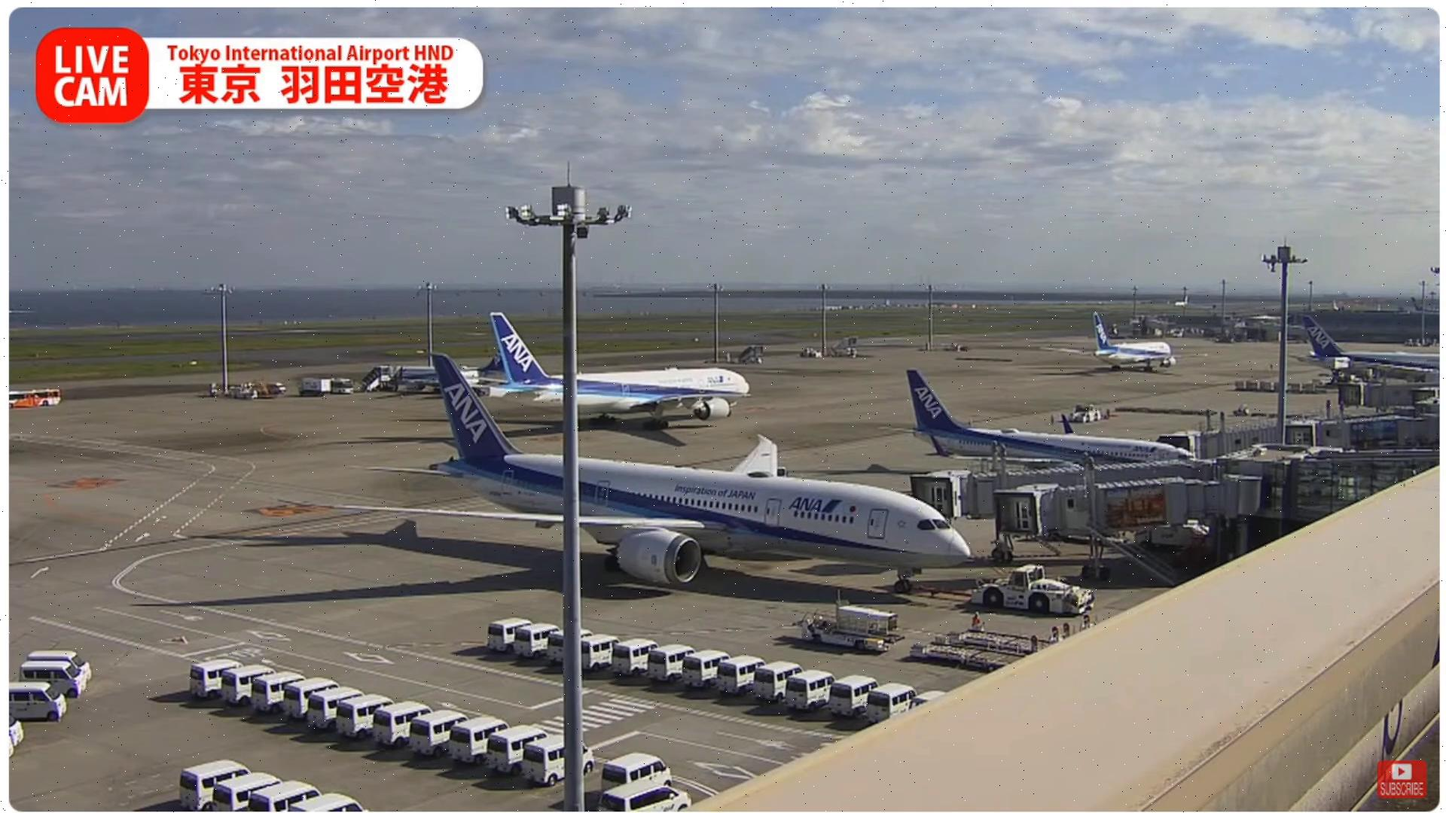APS: (969, 564, 1106, 619)
Aerobridge: (910, 460, 1217, 520), (991, 476, 1264, 540)
Airplane: (330, 354, 973, 599)
JCPL: (930, 626, 1059, 654), (911, 641, 1025, 671)
Skyloader: (794, 600, 908, 654)
Window: (1290, 456, 1440, 523)
